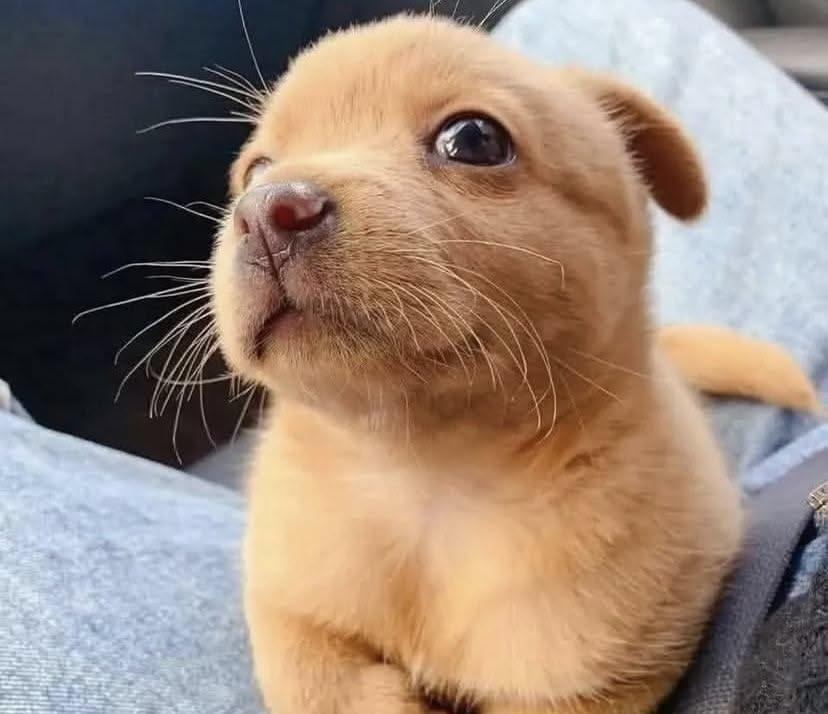puppy-dog: (206, 12, 820, 714)
